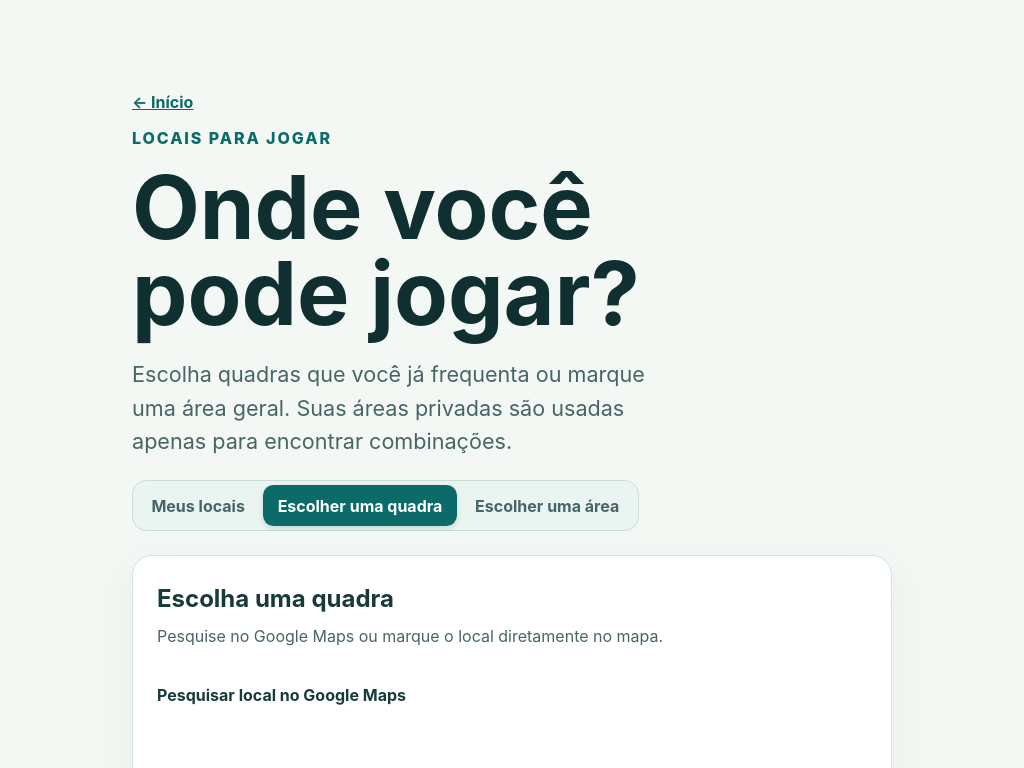
it: locations page › explains insecure local phone access without requesting location
Expected: the heading "Escolha uma quadra" is shown, [157,584,394,613]
Click the button "Escolher uma área": click(547, 506) [461,485,634,526]
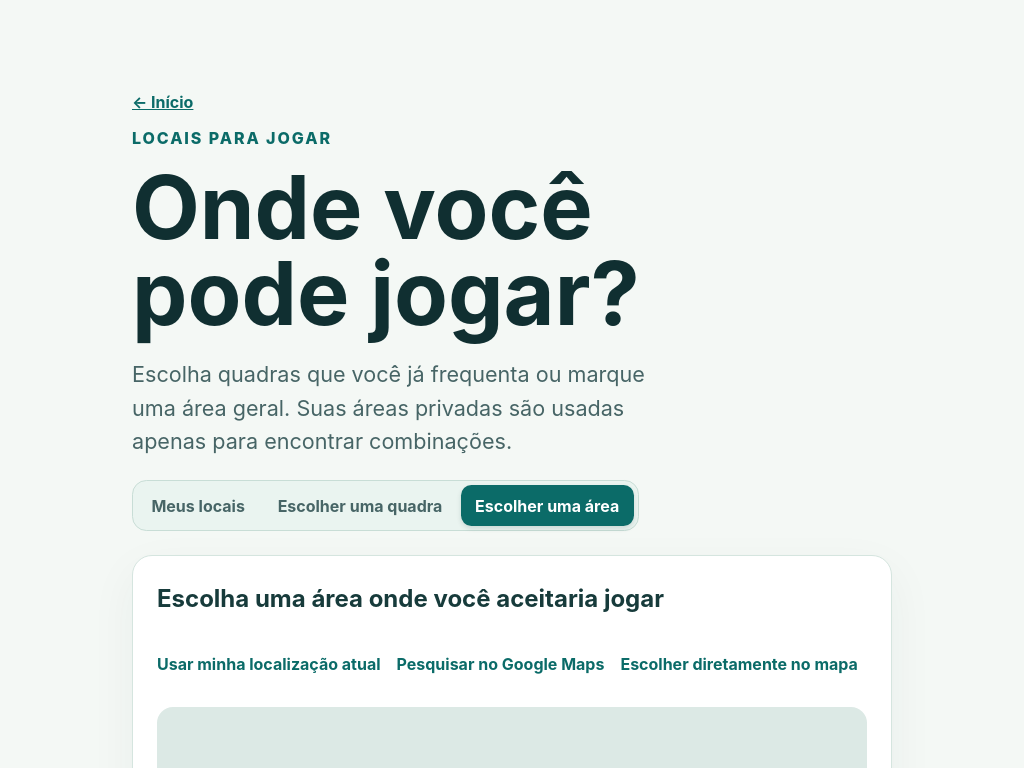
Click the button "Usar minha localização atual": click(269, 665) [157,638,380,691]
(page scrolled)
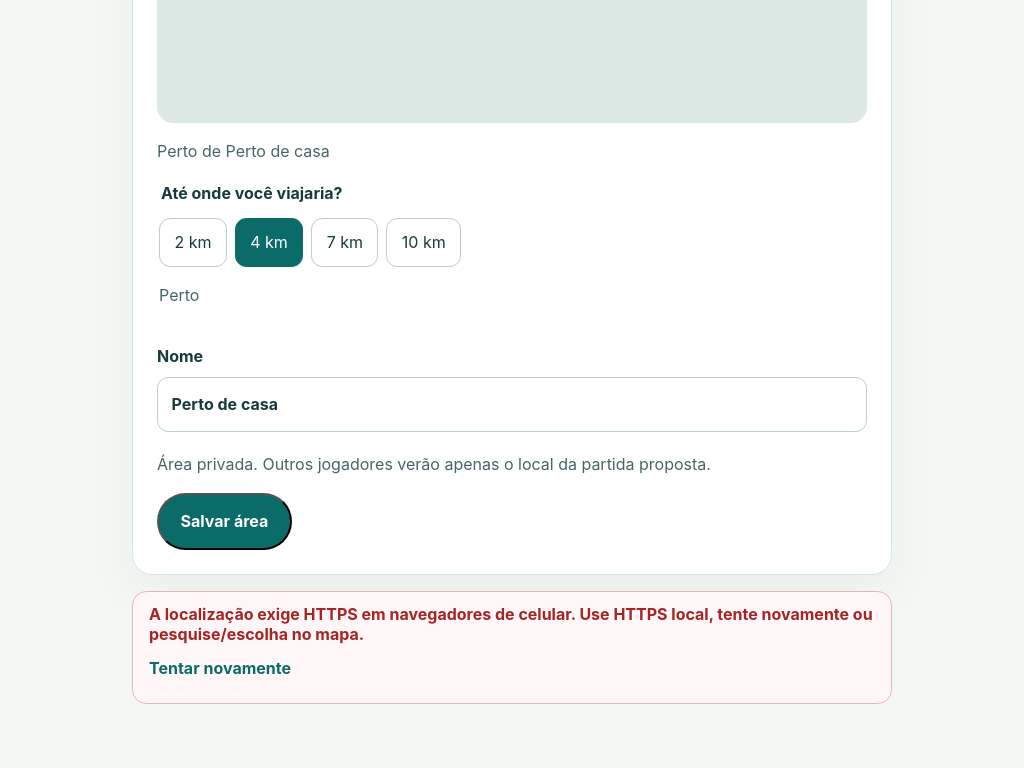
Expected: the text "localização exige HTTPS" is shown, [149,604,873,644]
